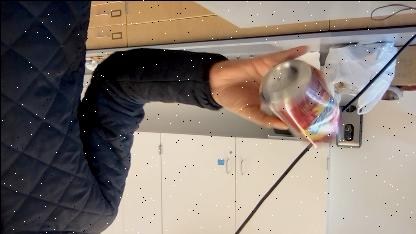Can: (257, 60, 341, 146)
